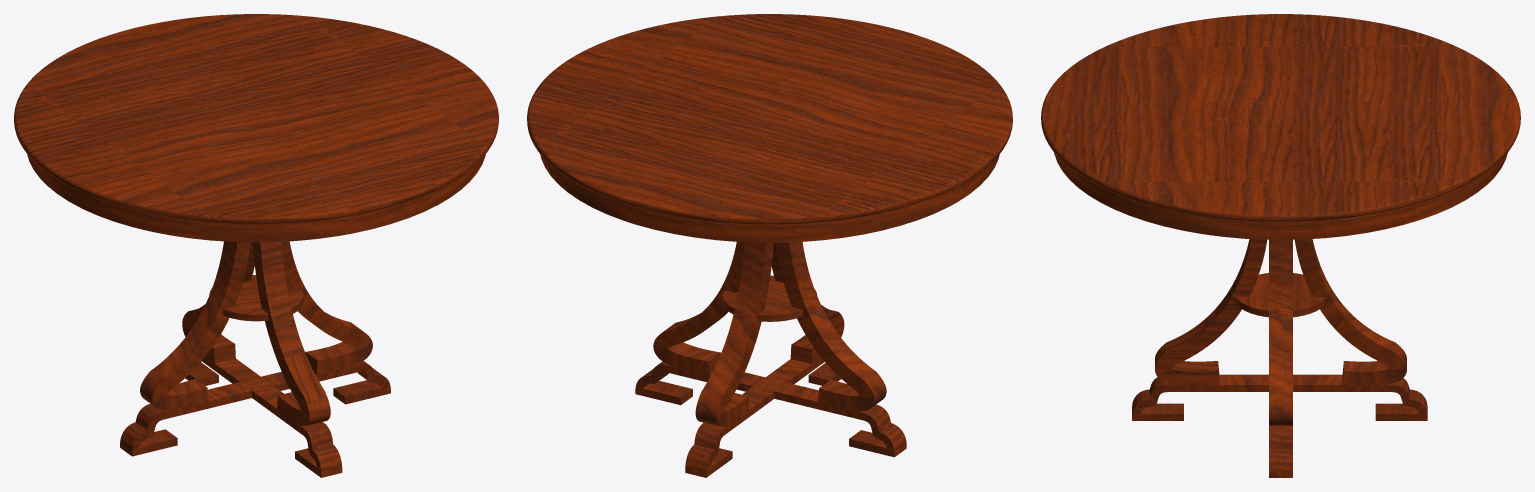
Rendered from meja_motif_unique.glb.
The picture shows the model from 3 angles, left to right: view 1: azimuth 30°, elevation 25°; view 2: azimuth 150°, elevation 25°; view 3: azimuth 270°, elevation 25°; orthographic projection.
Parts seen in each view (by area): view 1: Cylinder, Sweep, Sweep_3, Sweep_4, Sweep_5, Sweep_6, Sweep_1, Cylinder_1, Sweep_2; view 2: Cylinder, Sweep, Sweep_3, Sweep_2, Sweep_5, Sweep_6, Sweep_1, Cylinder_1, Sweep_4; view 3: Cylinder, Sweep, Sweep_6, Sweep_4, Sweep_2, Sweep_1, Cylinder_1, Sweep_5.
Boxes of the visible parts, x1=… form: Cylinder: x1=14, y1=14, x2=498, y2=223; Sweep: x1=27, y1=154, x2=485, y2=242; Sweep_3: x1=140, y1=241, x2=250, y2=410; Sweep_4: x1=252, y1=241, x2=330, y2=426; Sweep_5: x1=120, y1=361, x2=390, y2=456; Sweep_6: x1=185, y1=357, x2=342, y2=477; Sweep_1: x1=281, y1=241, x2=372, y2=374; Cylinder_1: x1=209, y1=275, x2=303, y2=321; Sweep_2: x1=182, y1=242, x2=254, y2=363; Cylinder: x1=527, y1=14, x2=1012, y2=224; Sweep: x1=540, y1=154, x2=999, y2=242; Sweep_3: x1=775, y1=242, x2=886, y2=411; Sweep_2: x1=695, y1=242, x2=773, y2=426; Sweep_5: x1=635, y1=361, x2=906, y2=457; Sweep_6: x1=685, y1=357, x2=840, y2=477; Sweep_1: x1=653, y1=242, x2=744, y2=375; Cylinder_1: x1=722, y1=275, x2=817, y2=321; Sweep_4: x1=771, y1=242, x2=844, y2=363; Cylinder: x1=1041, y1=14, x2=1520, y2=221; Sweep: x1=1054, y1=153, x2=1507, y2=239; Sweep_6: x1=1132, y1=374, x2=1427, y2=420; Sweep_4: x1=1155, y1=239, x2=1267, y2=386; Sweep_2: x1=1294, y1=239, x2=1406, y2=386; Sweep_1: x1=1269, y1=239, x2=1292, y2=425; Cylinder_1: x1=1236, y1=273, x2=1325, y2=317; Sweep_5: x1=1269, y1=426, x2=1292, y2=477.
Size of the model in its own units: 300 by 208 by 300.
Materials: 3 (3 with a texture image).
